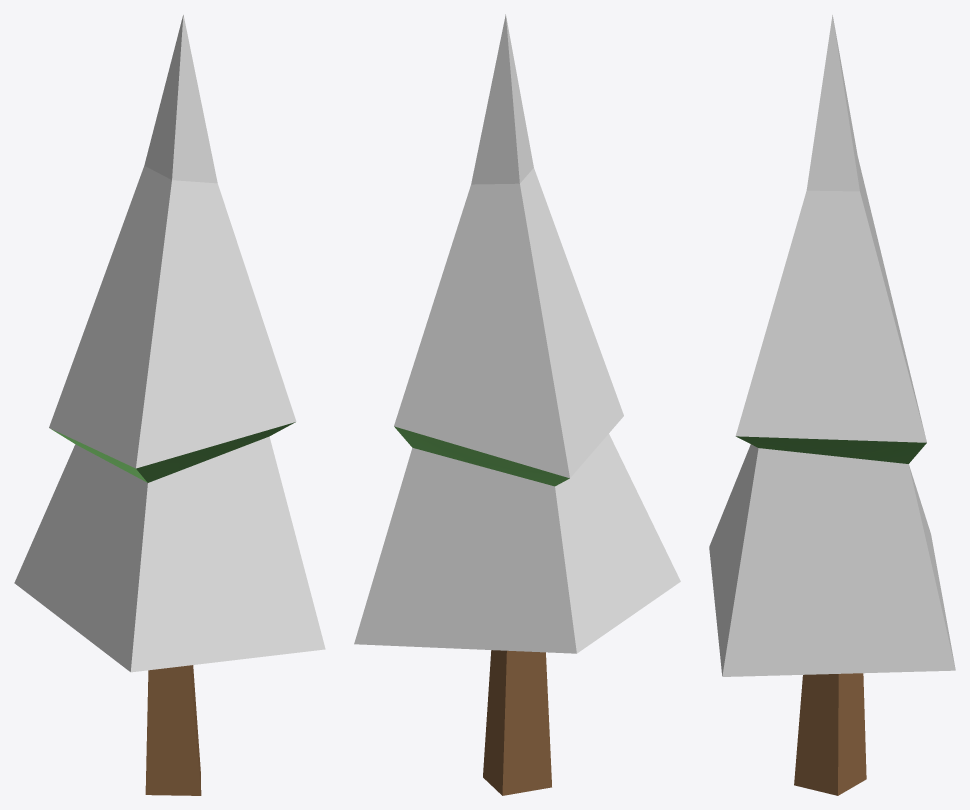
Rendered from Fir_Tree_s_Snow_BT_05.fbx.
3 views of the same model, side by side, from view 1: azimuth 30°, elevation 25°; view 2: azimuth 150°, elevation 25°; view 3: azimuth 270°, elevation 25° (orthographic).
Visible parts, largest first — view 1: Fir_Tree_s_Snow_BT_05; view 2: Fir_Tree_s_Snow_BT_05; view 3: Fir_Tree_s_Snow_BT_05.
Part boxes in pixels (x1,y1,x2,y2): Fir_Tree_s_Snow_BT_05: [14, 14, 325, 795]; Fir_Tree_s_Snow_BT_05: [354, 14, 680, 795]; Fir_Tree_s_Snow_BT_05: [709, 15, 955, 795].
Bounding box in the file's own units: 44.08 × 153 × 44.39.
